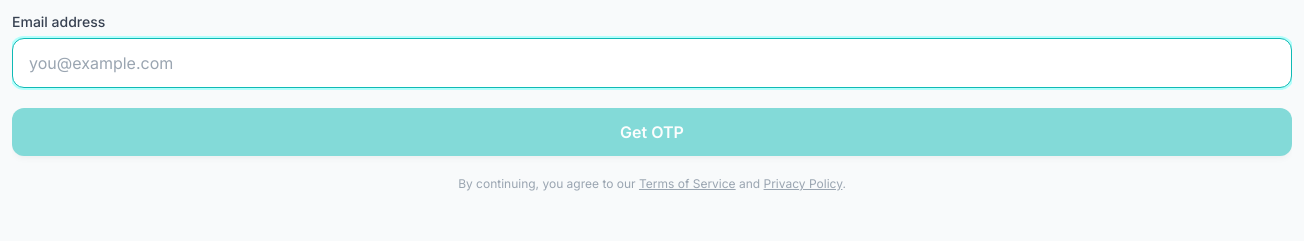
Scenario: EmailVerificationFlow › advances from email step to otp step on successful send
Type "new@example.com" into the field labelled "Email address". click: (652, 63)
box: [12,38,1292,88]
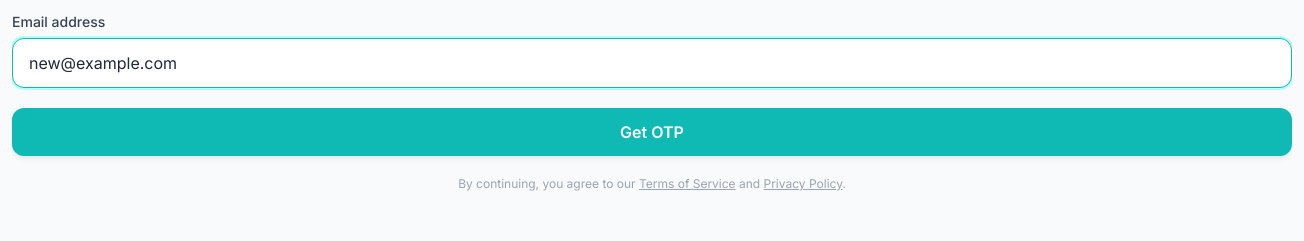
Click the button "Get OTP". click: click(652, 132)
box: [12,108,1292,156]
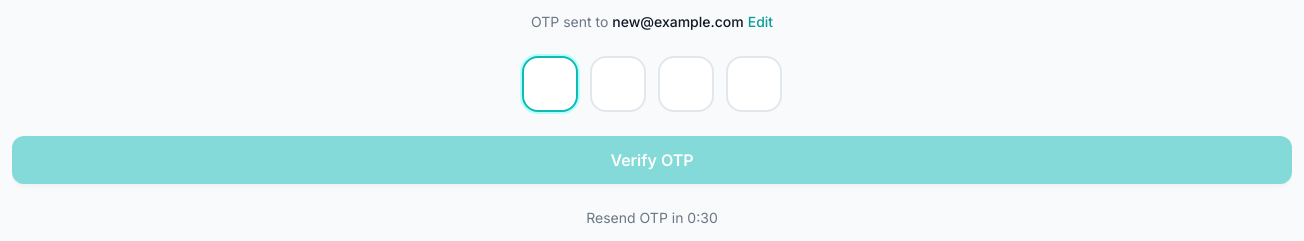
Result: the text "OTP sent to new@example.com Edit" is shown at [531,12,773,32]
